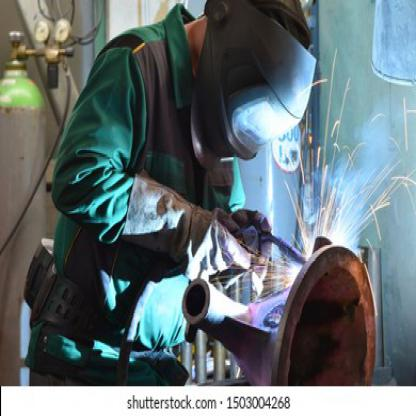with_gloves: (122, 168, 252, 288), (232, 205, 271, 288)
